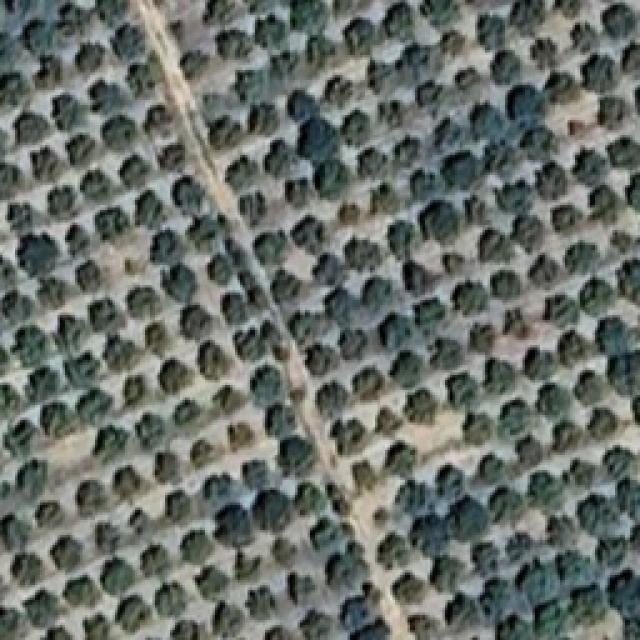Tree: (325, 541, 369, 589), (515, 557, 559, 605), (298, 114, 339, 165), (233, 320, 284, 361), (395, 43, 441, 86), (16, 233, 59, 277), (448, 495, 489, 541), (409, 512, 449, 557), (214, 503, 253, 548), (506, 84, 545, 129), (419, 200, 460, 242), (253, 489, 292, 532), (607, 568, 640, 617), (578, 494, 617, 535), (569, 583, 608, 624), (277, 435, 315, 475), (314, 158, 350, 200), (607, 350, 640, 395), (12, 325, 48, 366), (288, 311, 331, 345), (103, 334, 142, 371), (162, 263, 198, 303), (534, 599, 569, 640), (479, 578, 510, 624), (441, 151, 479, 188), (555, 550, 595, 585), (528, 470, 563, 510), (89, 79, 129, 114), (250, 364, 283, 406), (115, 595, 151, 633), (93, 425, 129, 463), (40, 402, 78, 438), (579, 278, 614, 317), (344, 237, 383, 272), (325, 286, 359, 326), (595, 316, 629, 356), (55, 314, 89, 354), (498, 399, 532, 439), (24, 589, 59, 627), (110, 22, 145, 60), (469, 103, 504, 141), (495, 179, 533, 214), (4, 419, 38, 458), (581, 54, 615, 93), (290, 215, 324, 254), (64, 351, 100, 387), (102, 115, 138, 151), (77, 388, 113, 424), (330, 419, 366, 455), (483, 139, 519, 175), (100, 558, 135, 595), (430, 555, 465, 592), (445, 593, 480, 630), (573, 149, 608, 186), (264, 139, 297, 178), (489, 486, 524, 522), (89, 297, 125, 332), (158, 358, 193, 394), (452, 280, 488, 315), (445, 372, 478, 410), (343, 17, 376, 55), (53, 93, 86, 131), (17, 459, 48, 499), (198, 340, 229, 380), (254, 230, 289, 265), (602, 4, 637, 39), (537, 383, 572, 418), (510, 0, 545, 35), (378, 313, 412, 349), (291, 0, 327, 34), (225, 155, 259, 191), (25, 366, 59, 402), (512, 214, 543, 253), (404, 389, 438, 424), (544, 294, 579, 328), (209, 115, 243, 150), (316, 381, 349, 417), (390, 351, 423, 387), (75, 480, 108, 516), (50, 535, 83, 571), (378, 533, 411, 569), (384, 441, 417, 477), (14, 111, 50, 144), (520, 127, 556, 160), (173, 177, 204, 215), (383, 2, 414, 40), (537, 162, 568, 200), (589, 184, 619, 223), (195, 565, 229, 599), (479, 229, 513, 263), (186, 215, 220, 249), (395, 479, 428, 514), (150, 229, 183, 264), (95, 207, 130, 240), (403, 260, 436, 295), (135, 412, 165, 450), (215, 29, 253, 59), (294, 481, 327, 515), (305, 343, 339, 376), (606, 136, 640, 169), (56, 3, 90, 36), (564, 241, 599, 273), (127, 286, 162, 318), (213, 602, 244, 638), (484, 358, 515, 394), (362, 277, 393, 313), (340, 109, 370, 146), (135, 190, 163, 229), (603, 445, 636, 478), (0, 290, 32, 324), (264, 402, 295, 437), (182, 305, 213, 340), (245, 585, 276, 620), (30, 147, 61, 182), (119, 154, 150, 189), (353, 366, 384, 401), (544, 72, 579, 103), (340, 595, 370, 631), (0, 514, 30, 550), (558, 330, 587, 367), (617, 259, 640, 305), (528, 254, 561, 286), (309, 516, 340, 550), (255, 14, 286, 48), (22, 20, 53, 54), (65, 576, 100, 606), (574, 370, 604, 405), (306, 34, 336, 69), (126, 62, 156, 97), (435, 464, 464, 500), (616, 478, 640, 521), (182, 530, 213, 563), (155, 583, 186, 616), (299, 609, 332, 640), (12, 553, 43, 586), (393, 573, 426, 604), (234, 70, 265, 103), (410, 169, 443, 200), (248, 103, 279, 136), (143, 104, 173, 138), (271, 269, 301, 303), (48, 185, 77, 220), (388, 220, 414, 259), (420, 0, 459, 26), (477, 14, 505, 50), (430, 338, 461, 370), (80, 169, 111, 201), (313, 253, 344, 285), (140, 544, 170, 577), (553, 420, 583, 453), (323, 75, 353, 108), (113, 465, 142, 499), (491, 50, 520, 84), (34, 55, 63, 89), (239, 191, 267, 226), (288, 90, 319, 121), (524, 348, 554, 380), (546, 515, 576, 547), (203, 0, 243, 24), (598, 96, 627, 129), (434, 118, 463, 151), (0, 73, 29, 106), (471, 541, 499, 575), (497, 614, 533, 640), (595, 536, 626, 566), (65, 134, 95, 165), (370, 183, 400, 214), (490, 270, 521, 300), (464, 413, 493, 445), (213, 385, 246, 413), (37, 276, 65, 309), (367, 59, 393, 94), (349, 618, 390, 640), (358, 148, 388, 178), (588, 408, 618, 438), (75, 43, 105, 73), (414, 298, 445, 327), (339, 329, 368, 360), (352, 460, 378, 494), (203, 473, 233, 502), (270, 50, 299, 80), (570, 23, 599, 53), (287, 573, 315, 604), (515, 435, 543, 466), (530, 38, 558, 69), (96, 0, 129, 26), (180, 50, 209, 79), (234, 550, 262, 580), (241, 460, 269, 490), (505, 533, 533, 563), (477, 454, 505, 484), (6, 203, 34, 233), (145, 322, 169, 357), (552, 205, 583, 232), (75, 260, 101, 292), (222, 293, 248, 325), (65, 224, 90, 257), (326, 483, 350, 517), (173, 399, 202, 427), (35, 500, 64, 528), (375, 406, 403, 435), (165, 490, 191, 521), (408, 614, 439, 640), (503, 308, 529, 339), (394, 136, 420, 167), (0, 31, 19, 73), (569, 459, 597, 487), (157, 142, 185, 170), (415, 80, 443, 108), (464, 198, 491, 227), (0, 161, 21, 198), (208, 254, 233, 285), (272, 538, 298, 567), (228, 423, 254, 452), (95, 523, 120, 553), (469, 323, 494, 353), (123, 375, 147, 406), (82, 614, 110, 640), (285, 178, 309, 208), (378, 100, 403, 128), (190, 439, 214, 468), (439, 30, 465, 56), (0, 607, 20, 640), (0, 384, 20, 417), (157, 457, 182, 483), (170, 620, 199, 640), (454, 68, 480, 90), (625, 173, 640, 211), (333, 0, 371, 15), (621, 43, 640, 73), (129, 507, 149, 535), (3, 0, 37, 16), (610, 230, 633, 253), (245, 1, 284, 14), (338, 203, 361, 225), (443, 253, 466, 274), (555, 0, 581, 18), (264, 625, 293, 640), (43, 627, 73, 640), (124, 258, 145, 275), (624, 618, 640, 640), (169, 20, 184, 41), (0, 477, 13, 501), (567, 120, 585, 136), (373, 507, 389, 525), (631, 395, 640, 423)
